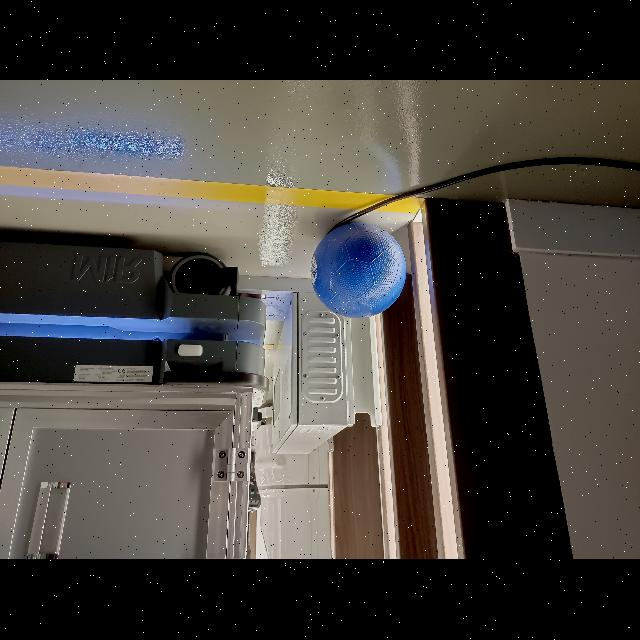B: (310, 222, 406, 320)
